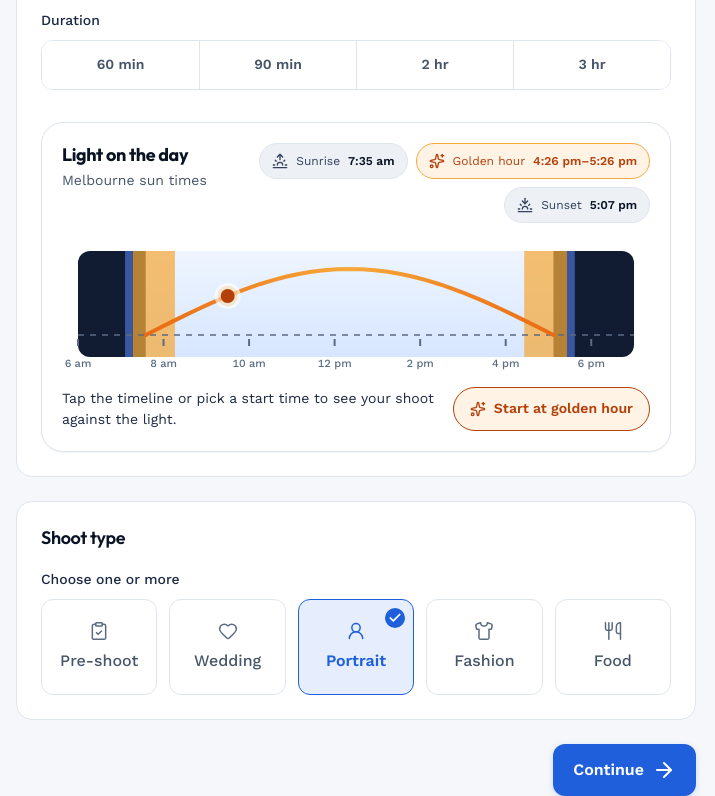
Test: ShootDetailsScreen › focuses the first duration radio when duration is the first invalid group
The width and height of the screenshot is (715, 796).
(page scrolled)
Click the button "Continue" at (625, 770), box top-left (553, 744), bottom-right (696, 795)
(page scrolled)
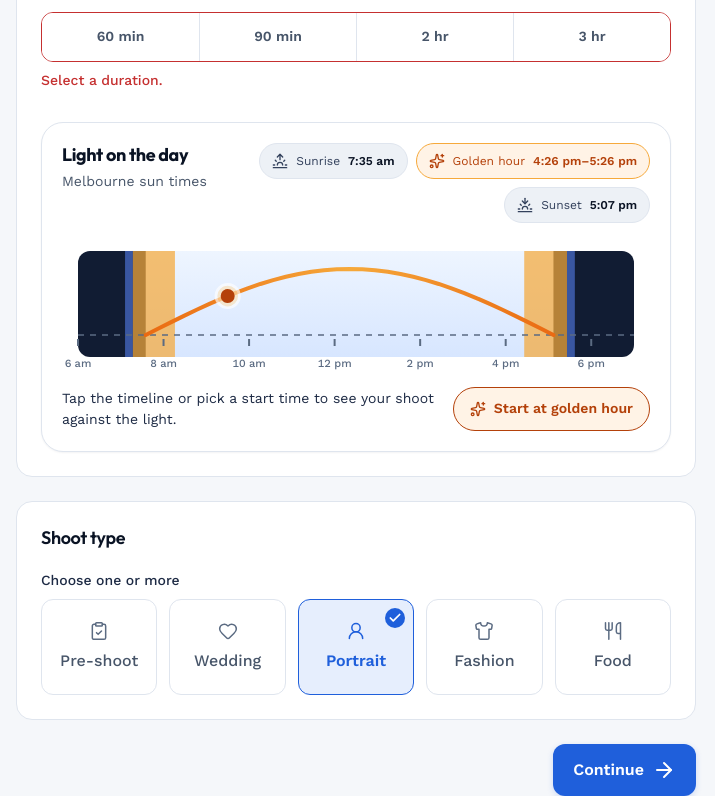
Check: the message "Select a duration." is shown, box top-left (41, 72), bottom-right (163, 88)
